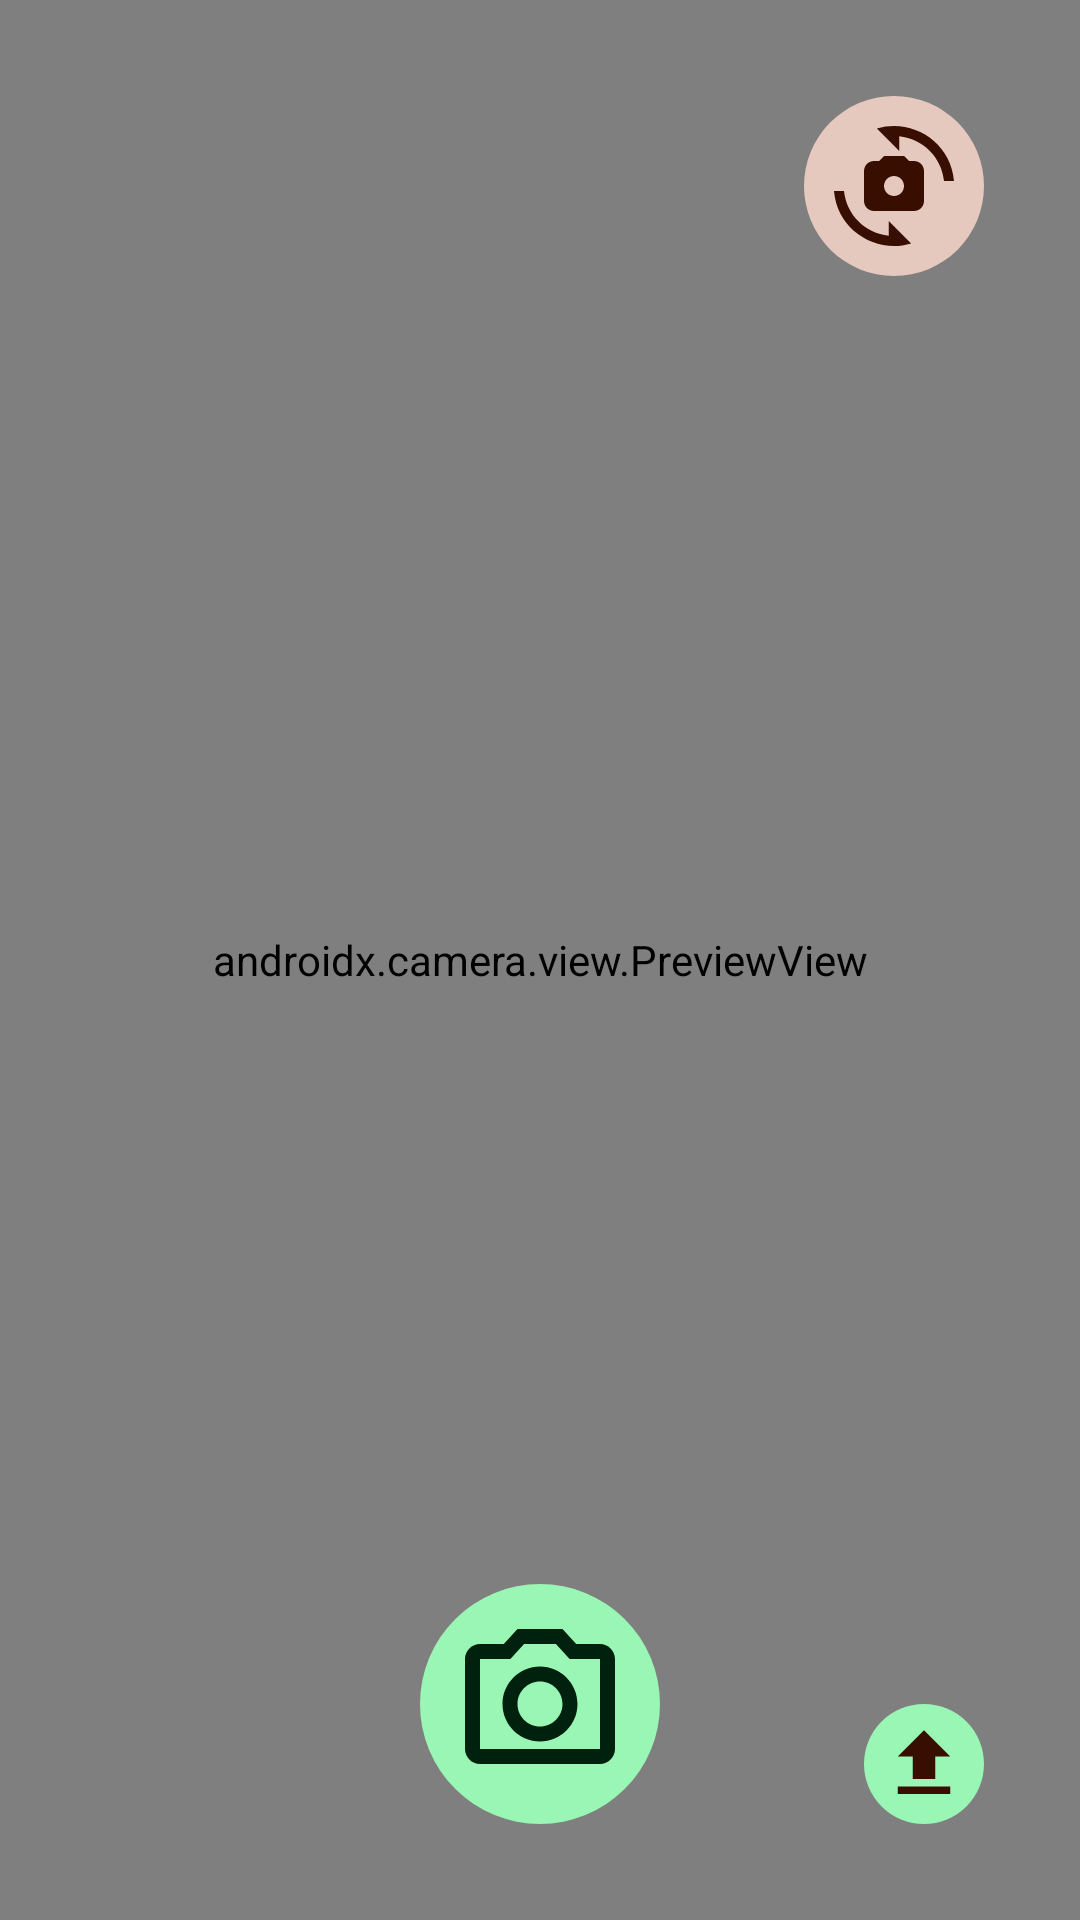

Where icons sit on this 1080x1920 app screen, as (x1=x1, y1=y1, x2=x2, y2=y2):
Switch camera: (x1=834, y1=126, x2=954, y2=246)
Take picture: (x1=465, y1=1629, x2=615, y2=1764)
Upload image from Gallery: (x1=897, y1=1730, x2=951, y2=1794)
